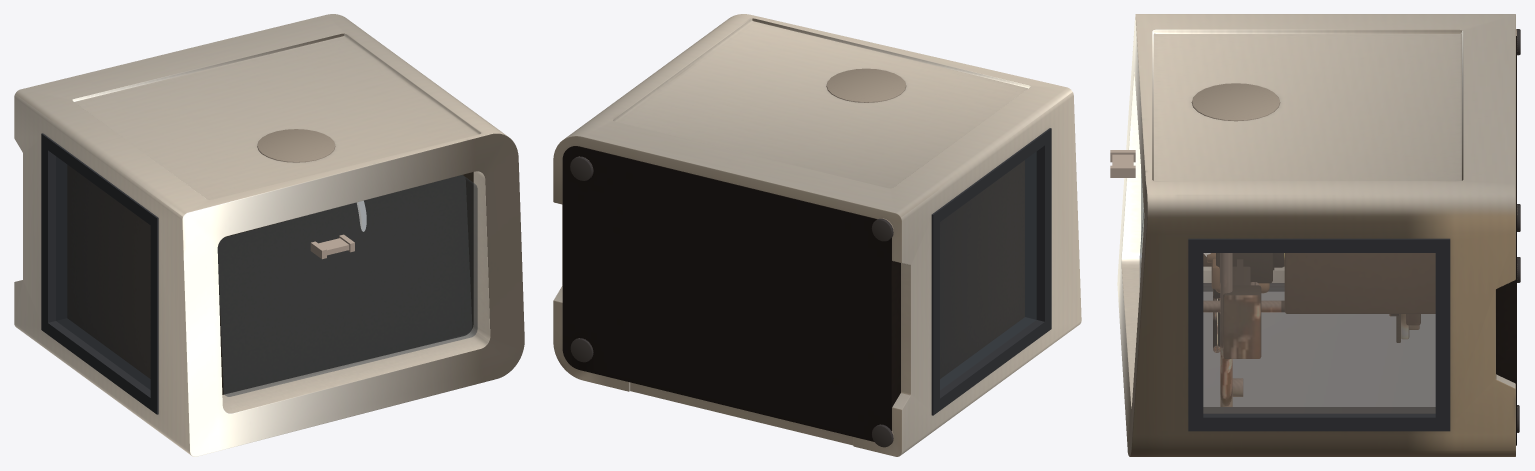
File: deltrol_p2s_explorer_v39.glb
3 views of the same model, side by side, from view 1: azimuth 30°, elevation 25°; view 2: azimuth 150°, elevation 25°; view 3: azimuth 270°, elevation 25° (orthographic). The views are drawn at different scales.
Visible parts, largest first — view 1: unibody_shell, top_roof_glass, interior_ceiling_liner, left_glass_window, interior_left_back_baffle, left_window_gasket, rear_exhaust_shroud, upper_gantry_rail_assembly; view 2: unibody_shell, chassis_recessed_plinth, left_glass_window, interior_left_back_baffle, left_window_gasket, rear_exhaust_shroud; view 3: unibody_shell, right_glass_window, right_glass_sheen, front_glass_door, right_window_gasket, interior_rear_electronics_box, x_gantry_crossbeam, rear_exhaust_shroud, chassis_recessed_plinth, x_guide_front, toolhead_chassis, upper_gantry_rail_assembly.
Part boxes in pixels (<box>): unibody_shell: <box>14,14,524,456</box>; top_roof_glass: <box>217,175,477,396</box>; interior_ceiling_liner: <box>217,172,473,394</box>; left_glass_window: <box>56,156,150,389</box>; interior_left_back_baffle: <box>67,165,150,378</box>; left_window_gasket: <box>41,133,158,414</box>; rear_exhaust_shroud: <box>257,129,335,162</box>; upper_gantry_rail_assembly: <box>310,234,354,259</box>; unibody_shell: <box>553,14,1081,456</box>; chassis_recessed_plinth: <box>562,146,900,441</box>; left_glass_window: <box>940,152,1036,389</box>; interior_left_back_baffle: <box>940,160,1024,378</box>; left_window_gasket: <box>931,128,1051,415</box>; rear_exhaust_shroud: <box>826,68,906,102</box>; unibody_shell: <box>1117,14,1515,456</box>; right_glass_window: <box>1203,253,1435,412</box>; right_glass_sheen: <box>1204,253,1434,412</box>; front_glass_door: <box>1204,288,1434,406</box>; right_window_gasket: <box>1188,238,1450,431</box>; interior_rear_electronics_box: <box>1203,253,1435,313</box>; x_gantry_crossbeam: <box>1223,259,1260,358</box>; rear_exhaust_shroud: <box>1191,83,1280,121</box>; chassis_recessed_plinth: <box>1496,36,1516,445</box>; x_guide_front: <box>1203,253,1399,406</box>; toolhead_chassis: <box>1216,253,1272,282</box>; upper_gantry_rail_assembly: <box>1110,150,1135,177</box>.
Size of the model in its own units: 0.426 by 0.2955 by 0.3885.
19 materials, 14 textured.
